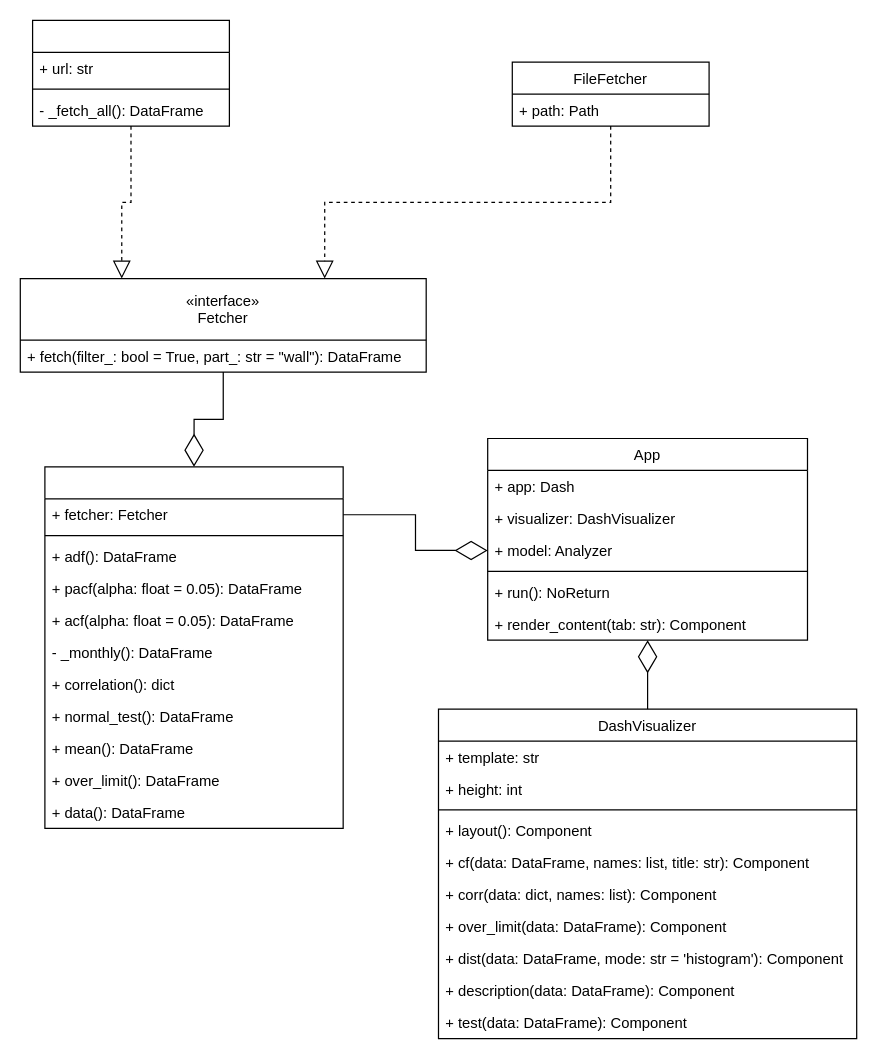
The diagram is 877 pixels wide and 1059 high, and some of its shapes have lost their labels. The shapes that lost their labels are listed below. From the top down, each one's box as (x1, y1, x2, y2) in pixels, then its label:
(31, 19, 229, 126): UrlFetcher
(44, 466, 343, 828): Analyzer
